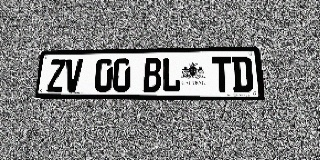0: (94, 58, 113, 92), (112, 58, 131, 92)
B: (143, 58, 162, 92)
D: (231, 56, 253, 93)
L: (162, 57, 181, 92)
T: (211, 57, 232, 93)
V: (64, 59, 83, 92)
Z: (47, 59, 66, 92)
